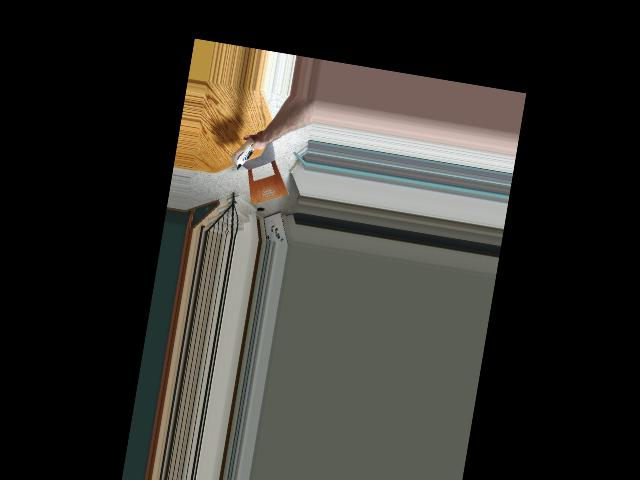cheese: (228, 134, 258, 172)
